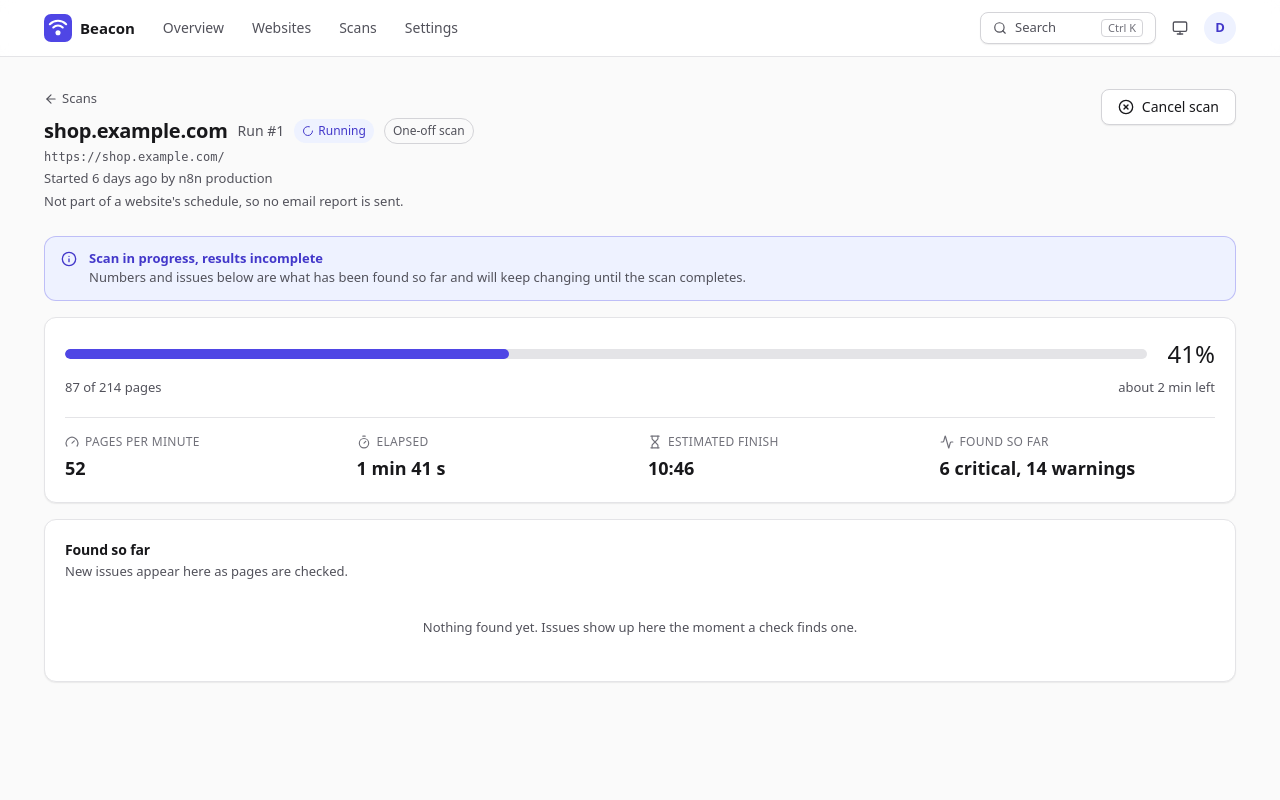
Test: a scan in progress › cancels after asking for confirmation
Click the button "Cancel scan" at (1168, 107), box [1101,89,1236,125]
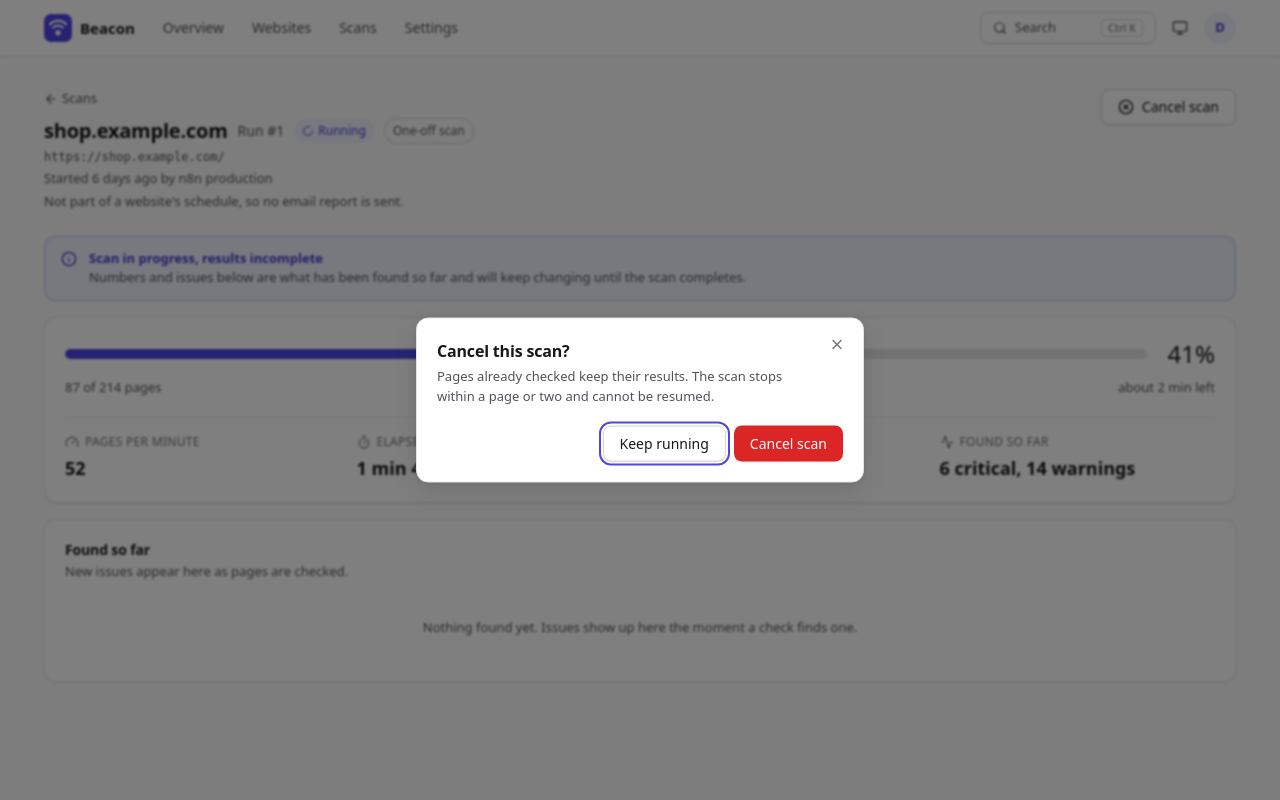
Click the button "Cancel scan" at (788, 444), box [734,426,843,462]
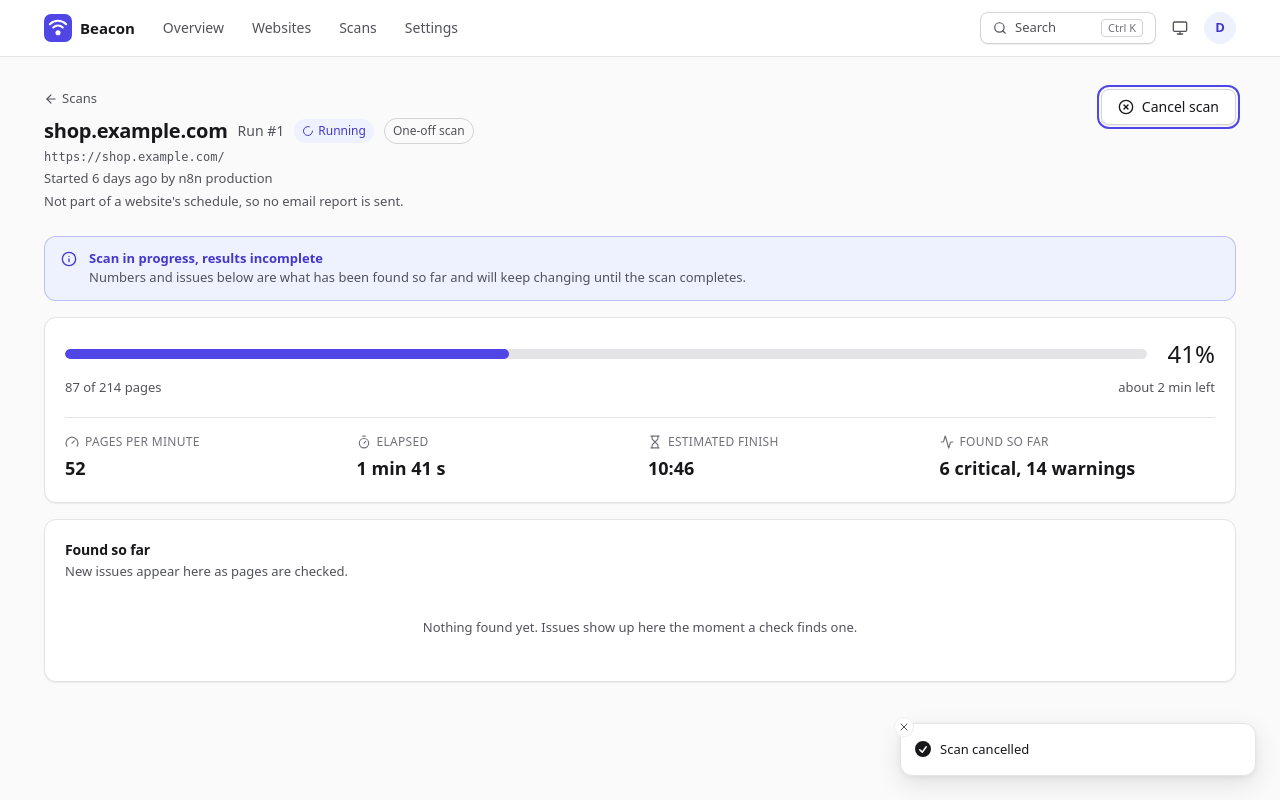
Result: the text "Scan cancelled" is shown at [940,740,1029,759]
